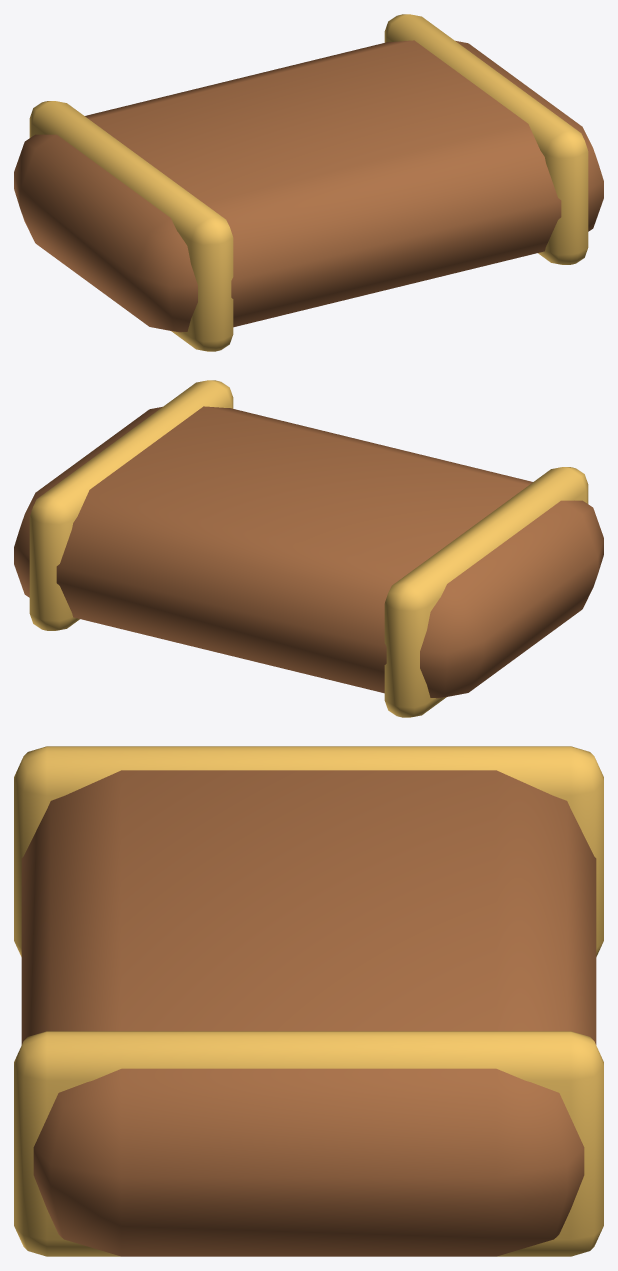
The model's file is chest_lid.glb.
The picture shows the model from 3 angles, top to bottom: view 1: azimuth 30°, elevation 25°; view 2: azimuth 150°, elevation 25°; view 3: azimuth 270°, elevation 25°; orthographic projection. The views are drawn at different scales.
Parts seen in each view (by area): view 1: chest_lid_mesh; view 2: chest_lid_mesh; view 3: chest_lid_mesh.
Boxes of the visible parts, x1=… form: chest_lid_mesh: x1=14, y1=14, x2=603, y2=351; chest_lid_mesh: x1=14, y1=380, x2=603, y2=717; chest_lid_mesh: x1=14, y1=746, x2=603, y2=1256.
Bounding box in the file's own units: 1.15 × 0.315 × 0.77.
